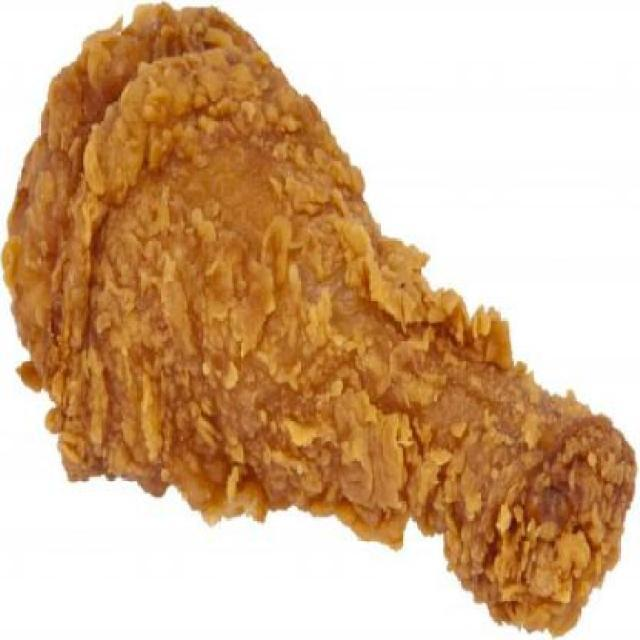Chicken -Fried Chicken-: (0, 4, 638, 640)
